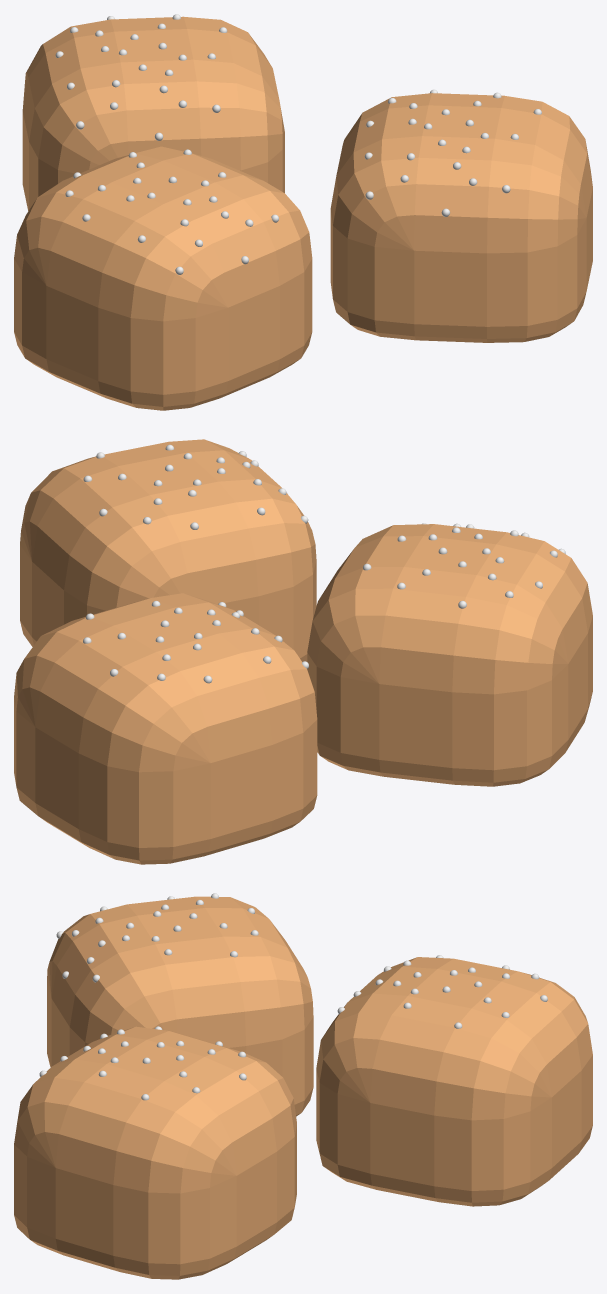
The picture shows the model from 3 angles, top to bottom: view 1: azimuth 30°, elevation 25°; view 2: azimuth 150°, elevation 25°; view 3: azimuth 270°, elevation 25°; orthographic projection. The views are drawn at different scales.
Parts seen in each view (by area): view 1: Box002, Box003, Box001; view 2: Box001, Box002, Box003; view 3: Box003, Box001, Box002.
Boxes of the visible parts, box(x1,y1,x2,y2) form: Box002: box(14, 146, 312, 410); Box003: box(330, 93, 592, 342); Box001: box(22, 16, 284, 210); Box001: box(14, 593, 317, 864); Box002: box(307, 524, 592, 786); Box003: box(20, 439, 316, 661); Box003: box(14, 1026, 296, 1279); Box001: box(316, 957, 592, 1206); Box002: box(47, 896, 313, 1116).
Bounding box in the file's own units: 1660263 × 530430 × 1621610.
